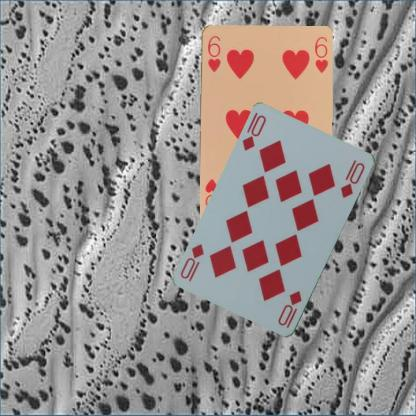10d: (275, 288, 303, 330), (239, 112, 268, 152)
6h: (205, 33, 222, 73)
